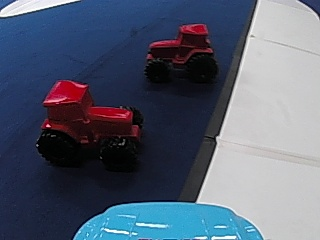Tracktor: (34, 76, 148, 169), (142, 21, 217, 83)
